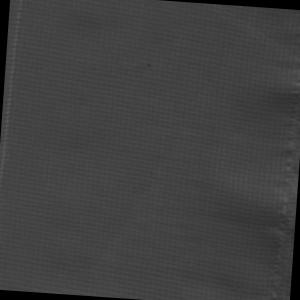Wrinkle: (191, 5, 300, 300)
